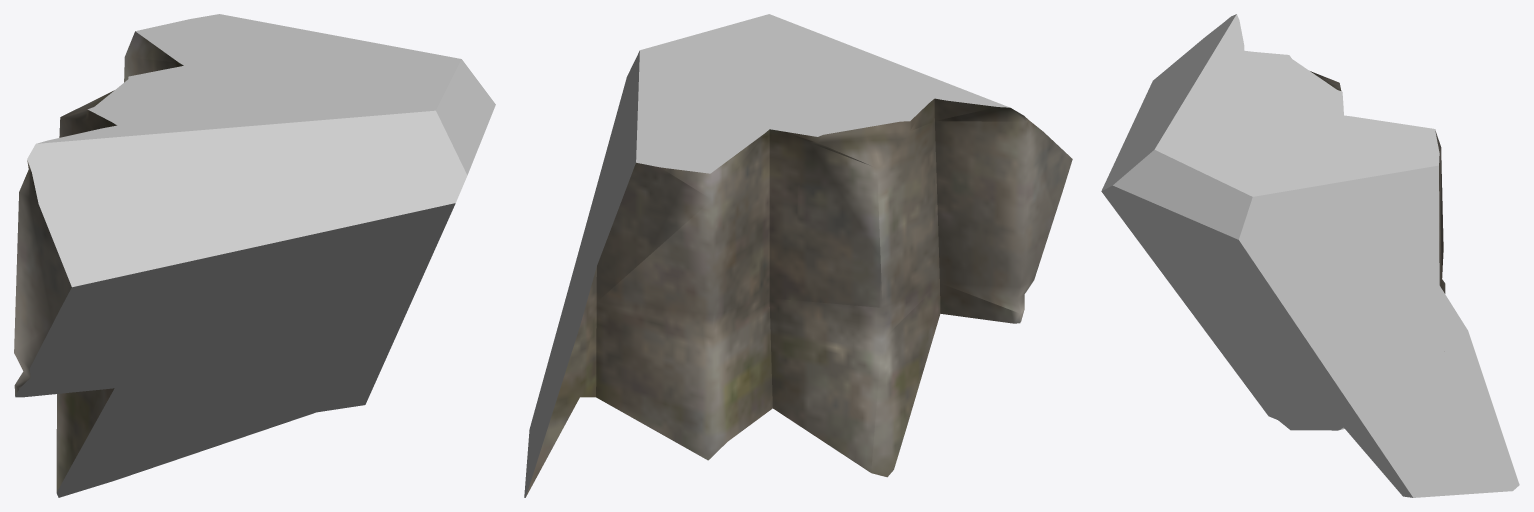
The model's file is ColumnDamage08_38.fbx.
3 views of the same model, side by side, from view 1: azimuth 30°, elevation 25°; view 2: azimuth 150°, elevation 25°; view 3: azimuth 270°, elevation 25° (orthographic). The views are drawn at different scales.
Visible parts, largest first — view 1: ColumnDamage08_DM.038; view 2: ColumnDamage08_DM.038; view 3: ColumnDamage08_DM.038.
Part boxes in pixels (<box>): ColumnDamage08_DM.038: <box>14,14,495,497</box>; ColumnDamage08_DM.038: <box>524,14,1072,497</box>; ColumnDamage08_DM.038: <box>1101,14,1519,497</box>.
Size of the model in its own units: 131 by 113 by 131.
